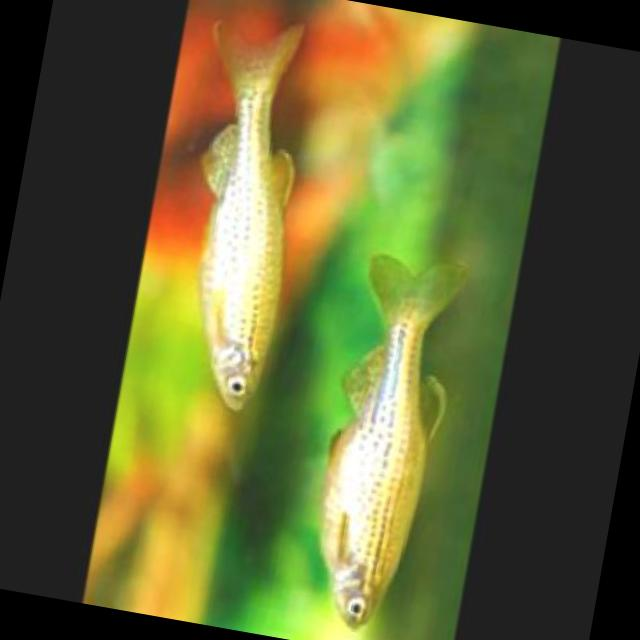ZebraFish: (298, 243, 480, 640), (153, 15, 330, 417)
